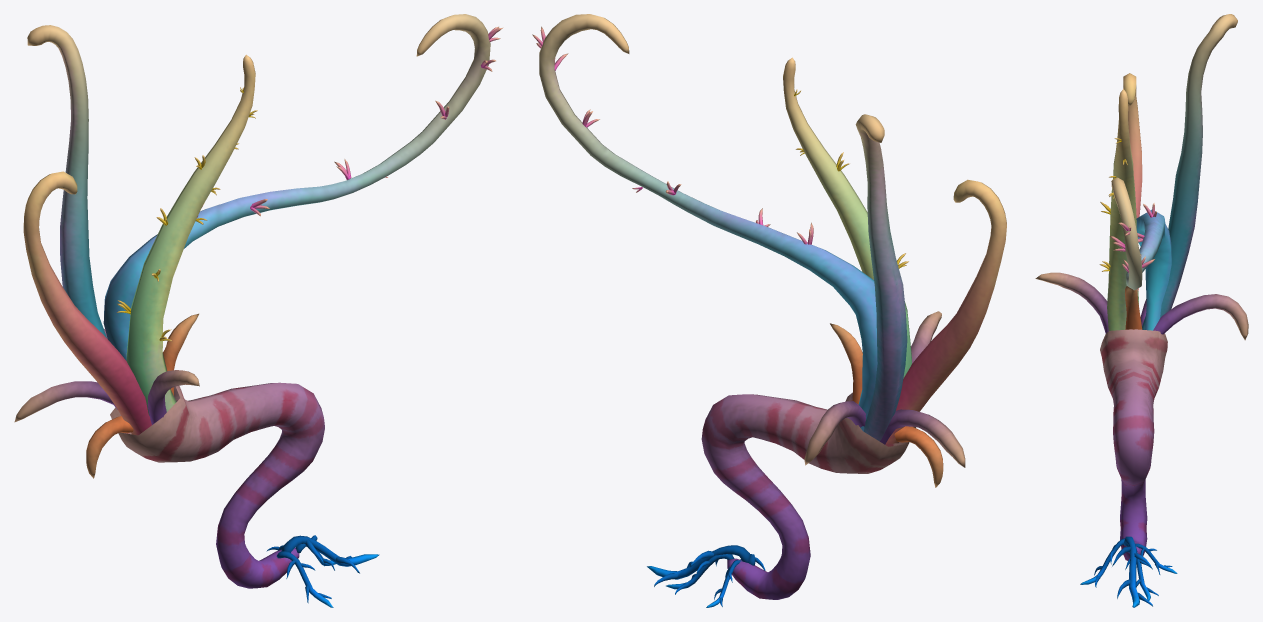
File: Cartoon Seaweed_13-2-5.fbx
3 views of the same model, side by side, from view 1: azimuth 30°, elevation 25°; view 2: azimuth 150°, elevation 25°; view 3: azimuth 270°, elevation 25° (orthographic). The views are drawn at different scales.
Parts seen in each view (by area): view 1: Cartoon Seaweed_13.2.5; view 2: Cartoon Seaweed_13.2.5; view 3: Cartoon Seaweed_13.2.5.
Part boxes in pixels (x1,y1,x2,y2): Cartoon Seaweed_13.2.5: (14,14,503,607); Cartoon Seaweed_13.2.5: (532,14,1006,607); Cartoon Seaweed_13.2.5: (1035,14,1248,607).
Bounding box in the file's own units: 80.21 × 91.8 × 36.48.
1 material, 1 textured.
